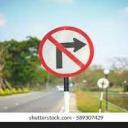NoVirarDireita: (37, 25, 95, 80)
